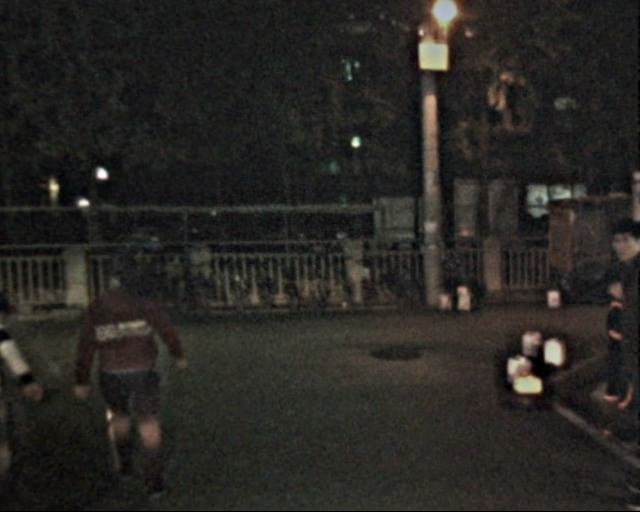person: (86, 243, 185, 498), (577, 221, 640, 485)
